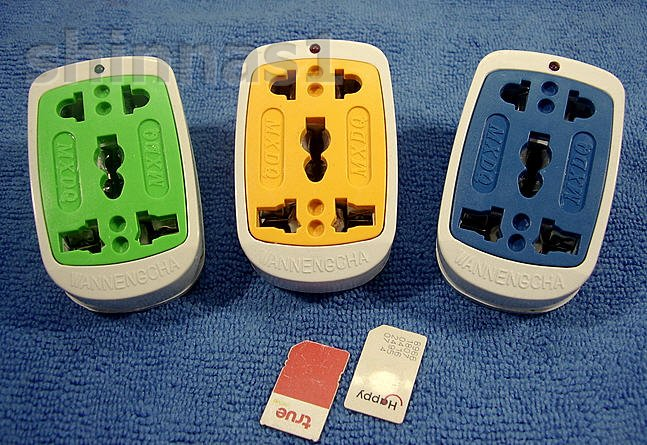Three_eye_plug: (425, 40, 629, 320), (21, 53, 210, 319), (228, 29, 401, 300)
